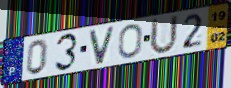0: (25, 37, 50, 76)
2: (182, 12, 204, 50)
3: (51, 32, 81, 72)
O: (117, 23, 144, 60)
U: (148, 14, 180, 56)
V: (88, 24, 117, 66)
